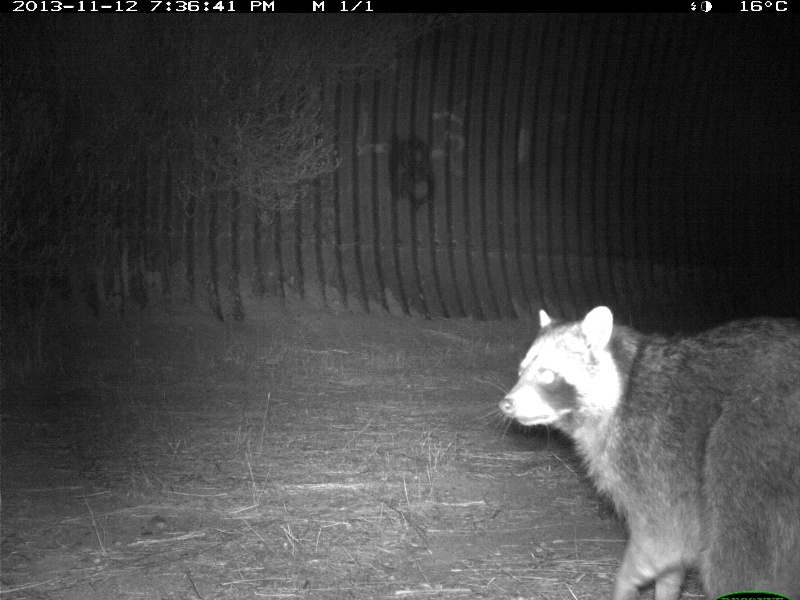raccoon: (488, 298, 796, 600)
